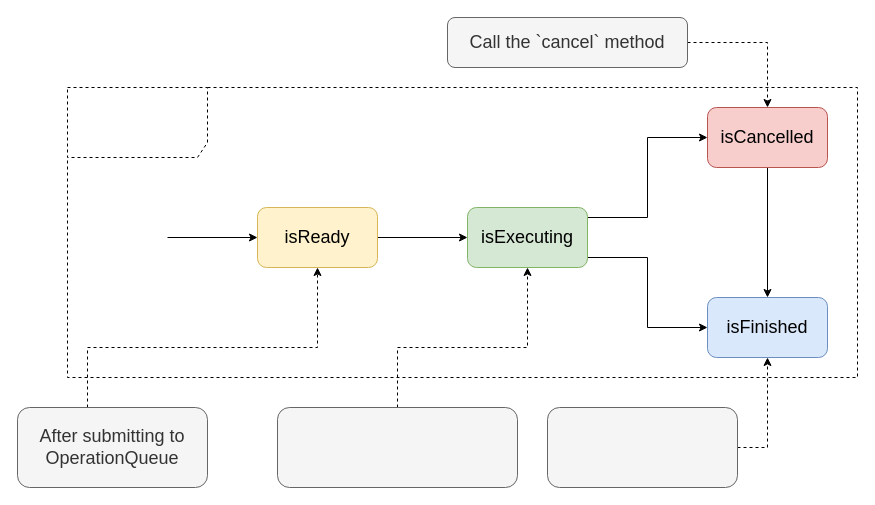
The diagram is 875 pixels wide and 505 high, and some of its shapes have lost their labels. Here are the shapes that lost their labels. From the top down, the centre of each, then its label:
At (462,232): "Operation Lifecycle".
At (397,447): "Found an available thread to execute code".
At (642,447): "Finish executing".
